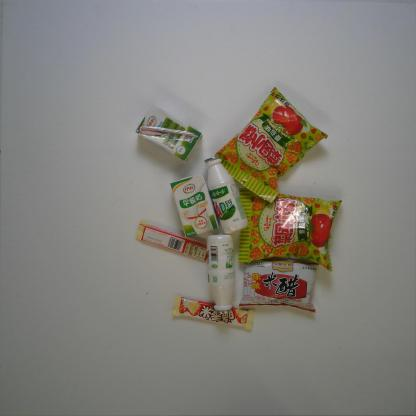Chocolate: (135, 220, 210, 262), (172, 295, 255, 330)
Milk: (135, 104, 203, 164), (204, 156, 250, 236), (170, 173, 219, 238), (204, 233, 236, 315)
Puffed Food: (214, 85, 330, 204), (235, 188, 344, 272)
Seasoner: (238, 260, 320, 314)
